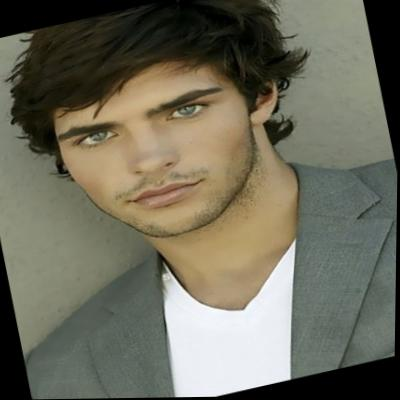netural: (43, 46, 275, 256)
